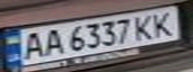3: (81, 20, 103, 50), (100, 19, 118, 47)
6: (66, 23, 87, 53)
7: (115, 16, 136, 44)
A: (15, 29, 48, 61), (39, 26, 66, 57)
K: (148, 8, 181, 38), (130, 11, 160, 40)
